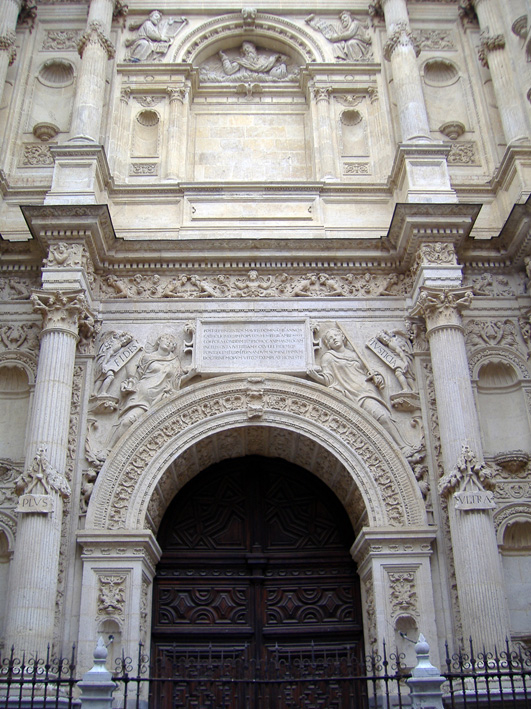arco-medio-punto: (131, 417, 384, 569), (173, 11, 323, 86)
